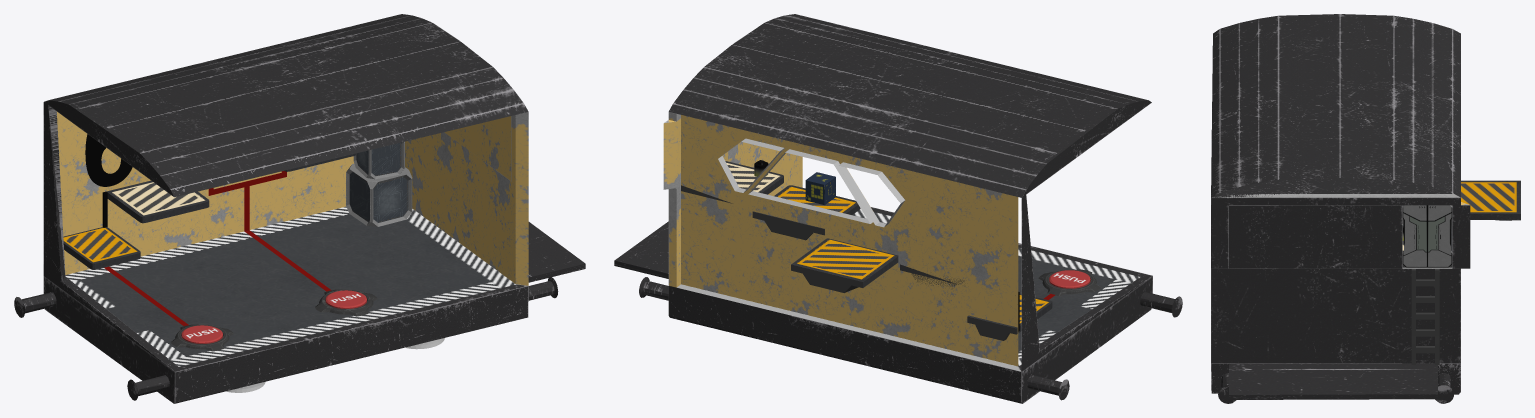
Rendered from level6.obj.
3 renders of one model, left to right at view 1: azimuth 30°, elevation 25°; view 2: azimuth 150°, elevation 25°; view 3: azimuth 270°, elevation 25°, orthographic. The views are drawn at different scales.
Parts seen in each view (by area): view 1: F_floor_1.011, R_roof_1.012, W_back_wall_1.012, W_right_wall_down_1.012, W_left_wall_1.012, Y_decoBox1_4.012, S_door_platform_1.005, W_right_wall_left_1.012, M_06_moving_platform_6, X_Przejscie5.001, J_07_kable2.003, W_right_wall_right_1.013 (+5 smaller); view 2: R_roof_1.012, W_back_wall_1.012, F_floor_1.011, W_left_wall_1.012, M_07_question_platform_7, W_right_wall_down_1.012, M_07_question_platform_8, X_Przejscie5.001, W_right_wall_right_1.013, S_door_platform_1.004, M_06_moving_platform_6, E_box_1.007 (+2 smaller); view 3: R_roof_1.012, W_right_wall_down_1.012, W_right_wall_left_1.012, X_Przejscie5.001, W_right_wall_up_1.012, W_right_wall_right_1.013, M_07_question_platform_7, X_Drabina5.001, F_floor_1.011, D_left_door_5.001, D_right_door_5.001.
Boxes of the visible parts, bbox=[...] form: F_floor_1.011: bbox=[14, 206, 558, 403]; R_roof_1.012: bbox=[49, 14, 528, 197]; W_back_wall_1.012: bbox=[56, 111, 354, 274]; W_right_wall_down_1.012: bbox=[405, 132, 528, 285]; W_left_wall_1.012: bbox=[43, 100, 178, 371]; Y_decoBox1_4.012: bbox=[346, 141, 412, 226]; S_door_platform_1.005: bbox=[106, 180, 209, 223]; W_right_wall_left_1.012: bbox=[444, 116, 511, 180]; M_06_moving_platform_6: bbox=[63, 227, 140, 269]; X_Przejscie5.001: bbox=[528, 222, 585, 282]; J_07_kable2.003: bbox=[208, 171, 331, 291]; W_right_wall_right_1.013: bbox=[511, 115, 528, 186]; R_roof_1.012: bbox=[669, 14, 1148, 197]; W_back_wall_1.012: bbox=[681, 115, 1018, 366]; F_floor_1.011: bbox=[639, 207, 1182, 403]; W_left_wall_1.012: bbox=[1021, 100, 1152, 371]; M_07_question_platform_7: bbox=[791, 238, 898, 292]; W_right_wall_down_1.012: bbox=[668, 142, 802, 287]; M_07_question_platform_8: bbox=[752, 185, 859, 240]; X_Przejscie5.001: bbox=[614, 221, 668, 278]; W_right_wall_right_1.013: bbox=[663, 118, 680, 189]; S_door_platform_1.004: bbox=[681, 161, 783, 203]; M_06_moving_platform_6: bbox=[967, 293, 1052, 340]; E_box_1.007: bbox=[805, 172, 835, 205]; R_roof_1.012: bbox=[1211, 14, 1460, 197]; W_right_wall_down_1.012: bbox=[1211, 267, 1460, 363]; W_right_wall_left_1.012: bbox=[1229, 205, 1402, 268]; X_Przejscie5.001: bbox=[1229, 363, 1437, 399]; W_right_wall_up_1.012: bbox=[1211, 194, 1460, 205]; W_right_wall_right_1.013: bbox=[1211, 202, 1470, 268]; M_07_question_platform_7: bbox=[1461, 180, 1520, 220]; X_Drabina5.001: bbox=[1411, 268, 1439, 364]; F_floor_1.011: bbox=[1211, 363, 1460, 403]; D_left_door_5.001: bbox=[1427, 205, 1452, 267]; D_right_door_5.001: bbox=[1402, 205, 1427, 267].
Bounding box in the file's own units: 14.32 × 7.33 × 8.91.
17 materials, 16 textured.
